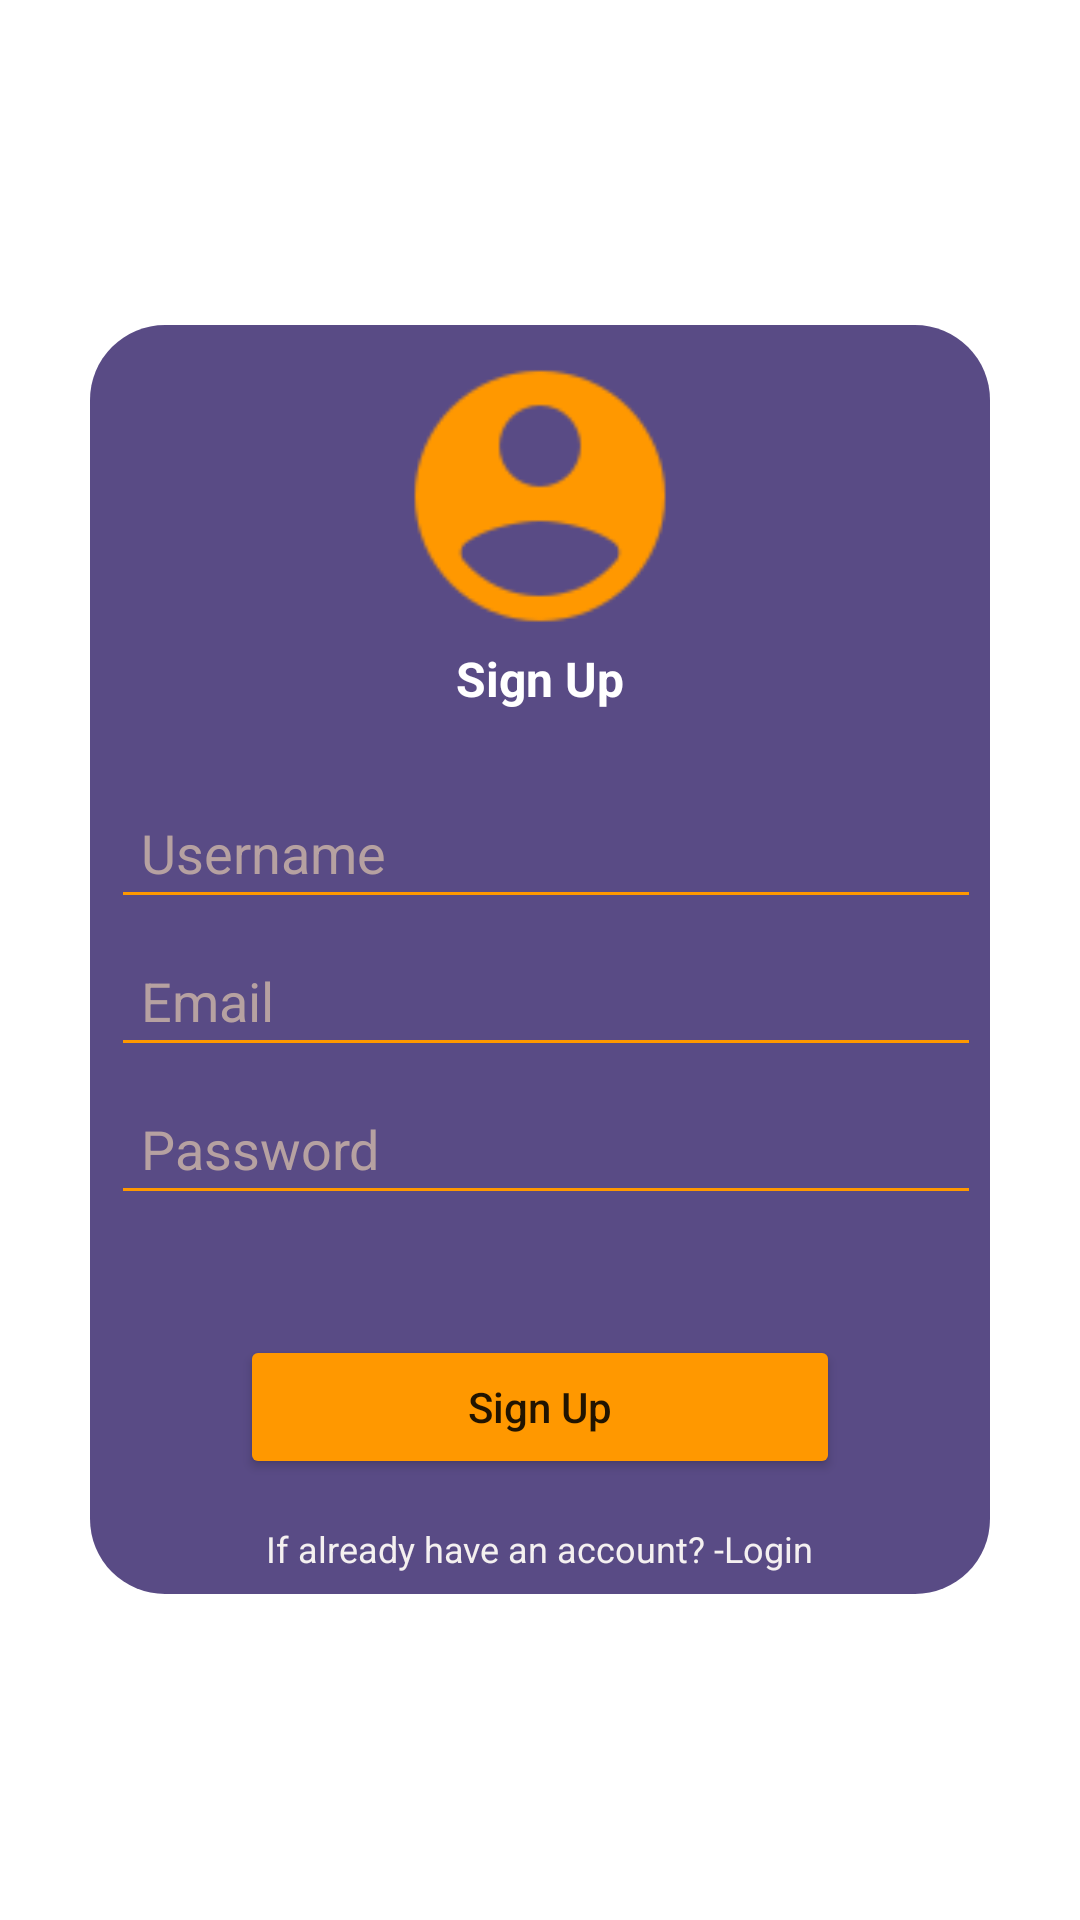

Where to tap for icons on this 1080 x 1920 app screen, as (x=x, y=y):
male user: (x=540, y=496)
